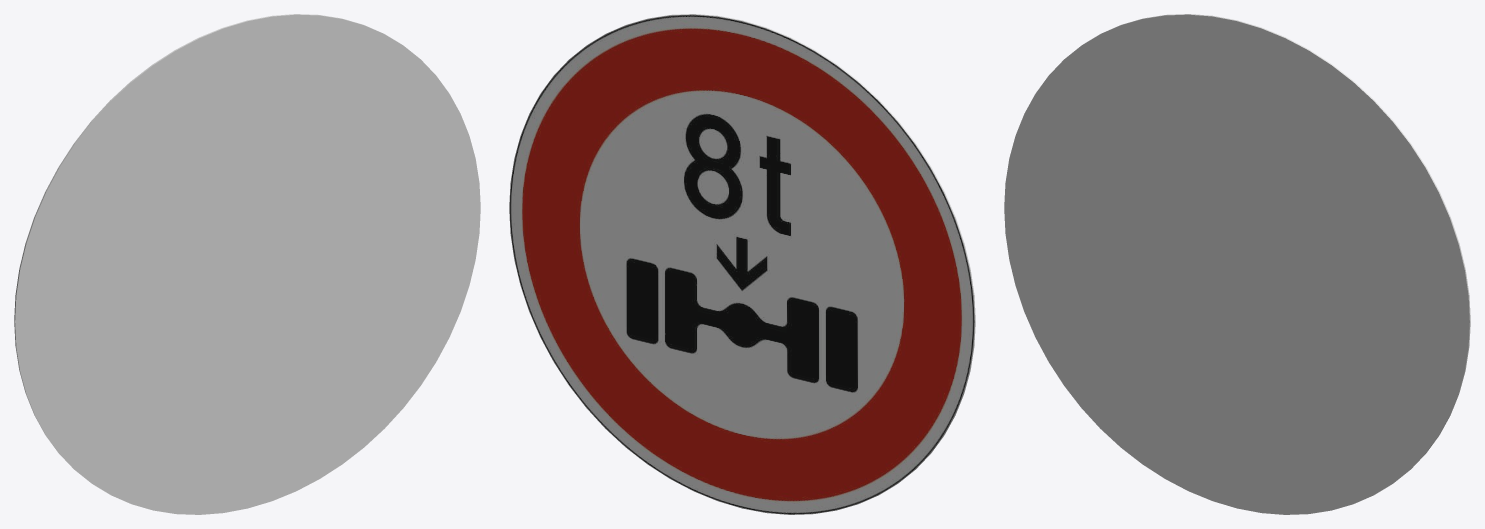
3 views of the same model, side by side, from view 1: azimuth 30°, elevation 25°; view 2: azimuth 150°, elevation 25°; view 3: azimuth 330°, elevation 25° (orthographic).
Parts seen in each view (by area): view 1: Circle; view 2: Circle; view 3: Circle.
Boxes of the visible parts, x1=… form: Circle: x1=14, y1=14, x2=480, y2=514; Circle: x1=509, y1=14, x2=975, y2=514; Circle: x1=1004, y1=14, x2=1470, y2=514.
Size of the model in its own units: 0.6 by 0.6 by 0.002.
Materials: 2 (1 with a texture image).
